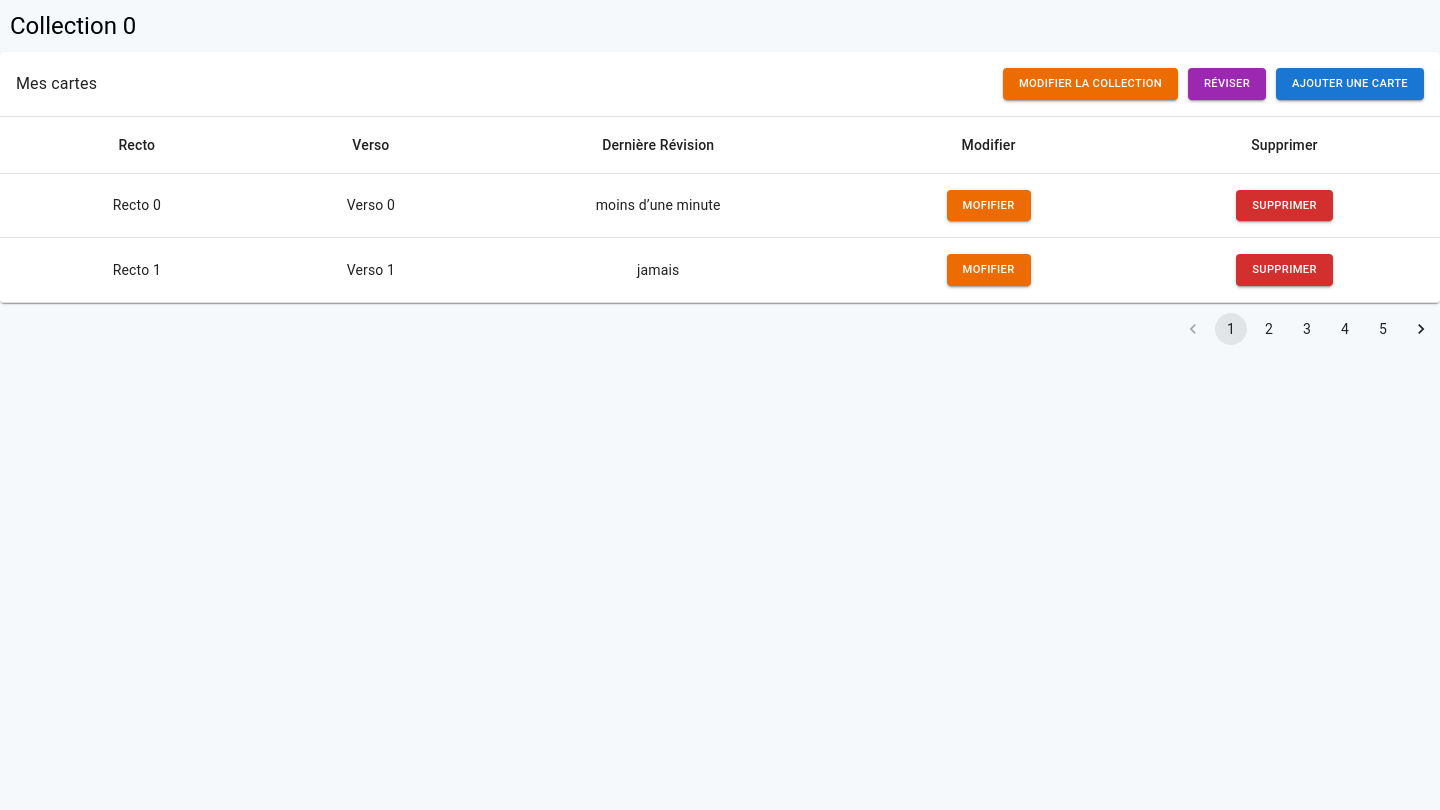
Test: CollectionDetailContent › Tests that clicking edit the collection button open the modal
The image size is (1440, 810).
Click the button with test id "edit-collection-button-collection-detail" at (1090, 84), box [1003, 68, 1178, 100]
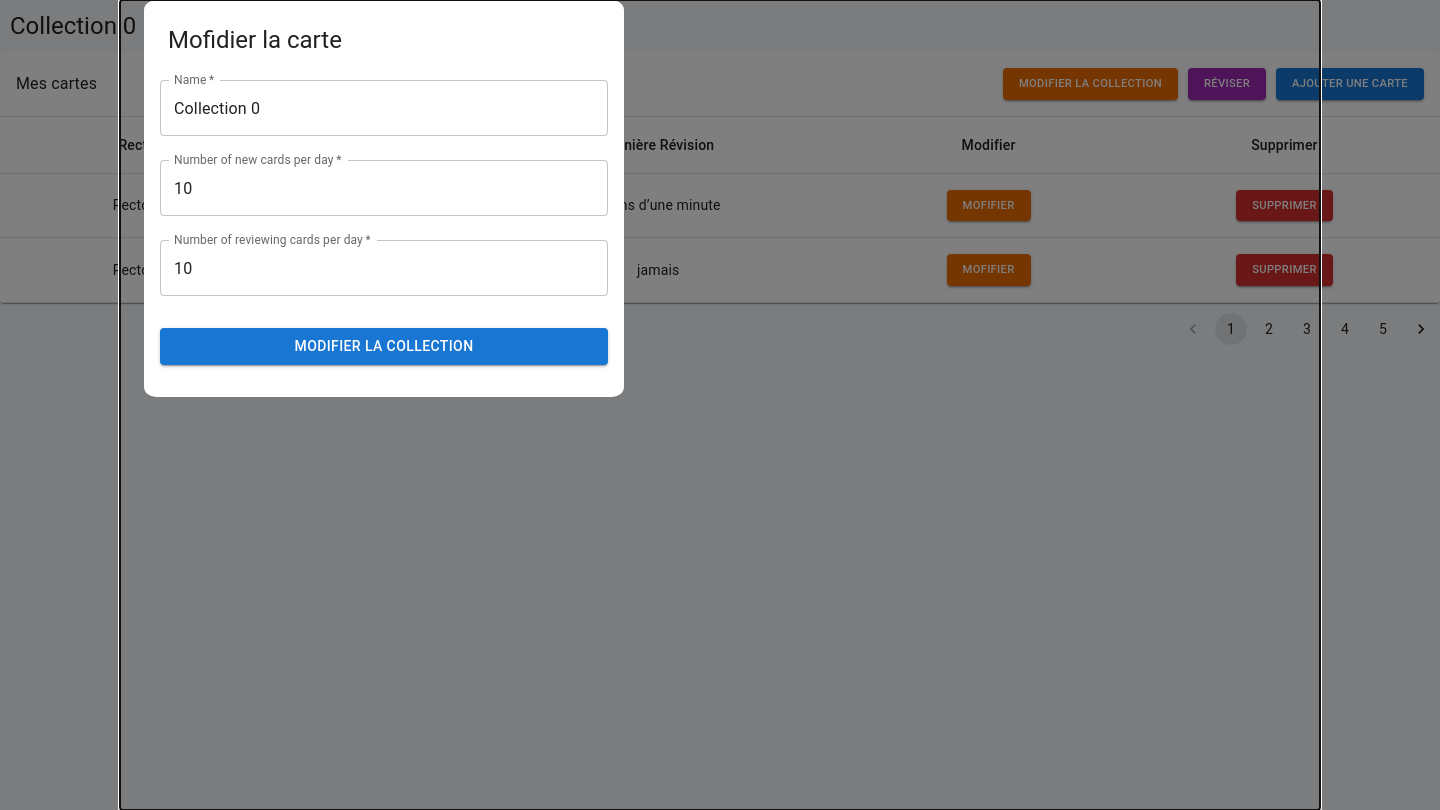
Now the element with test id "edit-collection-modal" is shown
